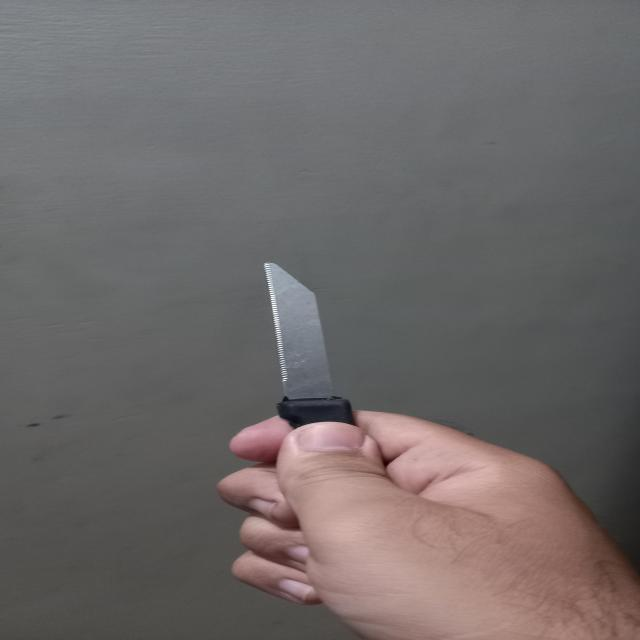Knife: (264, 262, 356, 428)
Person: (232, 408, 640, 639)
